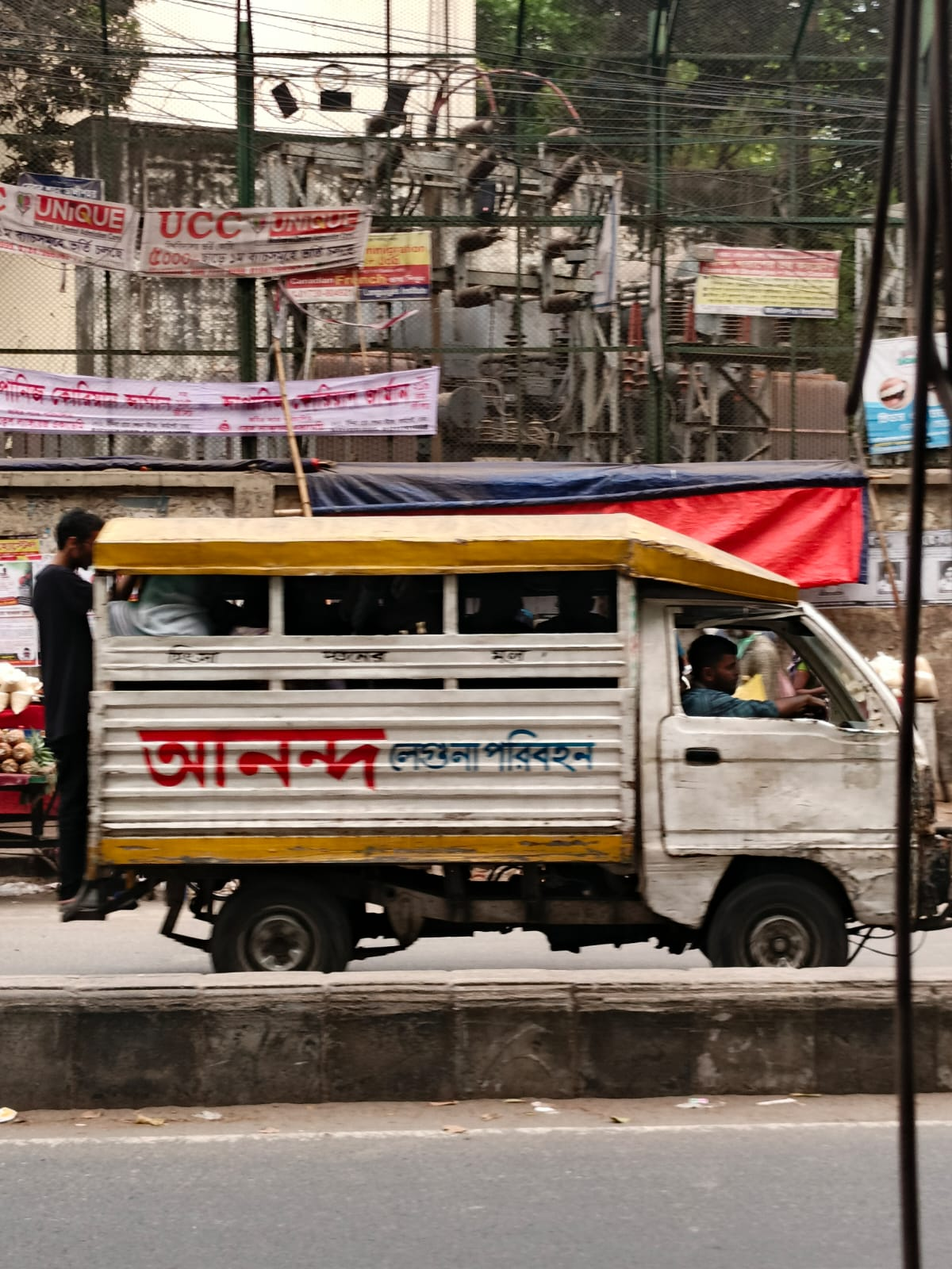Leguna: (20, 445, 933, 980)
